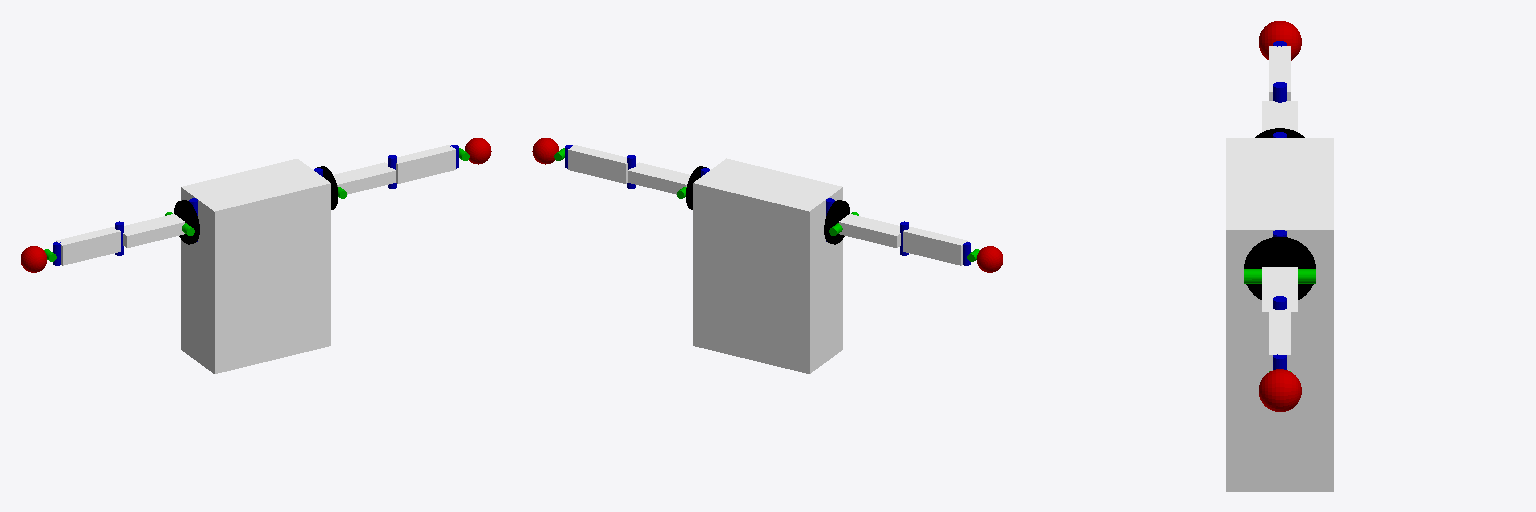
robot.urdf — Custom_Upper_Body:
<?xml version="1.0" encoding="utf-8"?>
<robot name="Custom_Upper_Body">


	  <material name="blue">
	    	<color rgba="0 0 0.8 1"/>
	  </material>
	  <material name="black">
	    	<color rgba="0 0 0 1"/>
	  </material>
	  <material name="white">
	    	<color rgba="1 1 1 1"/>
	  </material>
  	<material name="red">
    		<color rgba="0.8 0 0 1"/>
  	</material>
  	<material name="green">
    		<color rgba="0 0.8 0 1"/>
  	</material>
  	
  	
	<link name="base">
		<mass value="0.3"/>
		<inertial>
			<origin xyz="0 0 0" rpy="0 0 0"></origin>
			<mass value="0.3"></mass>
			<inertia ixx="0.000444379589701896" ixy="0" ixz="0" iyy="0.00048561348802354" iyz="0" izz="0.000421911604661064"></inertia>
		</inertial>
		<visual>
			<origin xyz="0 0 0" rpy="0 0 0"></origin>
			<geometry>
				<box size="0.3 0.15 0.4"/>
			</geometry>
			<material name="white"/>
		</visual>
		<collision>
			<origin xyz="0 0 0" rpy="0 0 0"></origin>
			<geometry>
				<box size="0.3 0.15 0.4"/>
			</geometry>
		</collision>
	</link>
	
	<joint name="base_to_r_shoulder_yaw" type="revolute">
	    <parent link="base"/>
	    <child link="r_shoulder_yaw"/>
	    <origin xyz="0.16 0. 0.15" rpy="0 0 0"/>
	    <axis xyz="0 0 1"></axis>
	    <limit effort="3.1" lower="-1.57" upper="1.57" velocity="7.0"></limit>
  	</joint>
	
	<link name="r_shoulder_yaw">
		<inertial>
			<origin xyz="0 0 0" rpy="0 0 0"></origin>
			<mass value="0.1"></mass>
			<inertia ixx="0.000444379589701896" ixy="0" ixz="0" iyy="0.00048561348802354" iyz="0" izz="0.000421911604661064"></inertia>
		</inertial>
		<visual>
			<origin xyz="0 0 0" rpy="0 0 0"></origin>
			<geometry>
				<cylinder length="0.1" radius="0.01"/>
			</geometry>
			<material name="blue"/>
		</visual>
		<collision>
			<origin xyz="0 0 0" rpy="0 0 0"></origin>
			<geometry>
				<cylinder length="0.1" radius="0.01"/>
			</geometry>
		</collision>
	</link>
	
	<joint name="r_shoulder_yaw_to_shoulder_roll" type="revolute">
	    <parent link="r_shoulder_yaw"/>
	    <child link="r_shoulder_roll"/>
	    <origin xyz="0.018 0 0" rpy="0 1.57 0"/>
	    <axis xyz="0 0 1"></axis>
	    <limit effort="3.1" lower="-1.57" upper="1.57" velocity="7.0"></limit>
  	</joint>
	
	<link name="r_shoulder_roll">
		<inertial>
			<origin xyz="0 0 0" rpy="0 0 0"></origin>
			<mass value="0.1"></mass>
			<inertia ixx="0.000444379589701896" ixy="0" ixz="0" iyy="0.00048561348802354" iyz="0" izz="0.000421911604661064"></inertia>
		</inertial>
		<visual>
			<origin xyz="0 0 0" rpy="0 0 0"></origin>
			<geometry>
				<cylinder length="0.01" radius="0.05"/>
			</geometry>
			<material name="black"/>
		</visual>
		<collision>
			<origin xyz="0 0 0" rpy="0 0 0"></origin>
			<geometry>
				<cylinder length="0.01" radius="0.05"/>
			</geometry>
		</collision>
	</link>
	
	<joint name="r_shoulder_roll_to_shoulder_pitch" type="revolute">
	    <parent link="r_shoulder_roll"/>
	    <child link="r_shoulder_pitch"/>
	    <origin xyz="0 0 0.018" rpy="1.57 0 0"/>
	    <axis xyz="0 0 1"></axis>
	    <limit effort="3.1" lower="-1.57" upper="1.57" velocity="7.0"></limit>
  	</joint>
	
	<link name="r_shoulder_pitch">
		<inertial>
			<origin xyz="0 0 0" rpy="0 0 0"></origin>
			<mass value="0.1"></mass>
			<inertia ixx="0.000444379589701896" ixy="0" ixz="0" iyy="0.00048561348802354" iyz="0" izz="0.000421911604661064"></inertia>
		</inertial>
		<visual>
			<origin xyz="0 0 0" rpy="0 0 0"></origin>
			<geometry>
				<cylinder length="0.1" radius="0.01"/>
			</geometry>
			<material name="green"/>
		</visual>
		<collision>
			<origin xyz="0 0 0" rpy="0 0 0"></origin>
			<geometry>
				<cylinder length="0.1" radius="0.01"/>
			</geometry>
		</collision>
	</link>
	
	<joint name="r_shoulder_pitch_to_upper_arm" type="fixed">
	    <parent link="r_shoulder_pitch"/>
	    <child link="r_upper_arm"/>
	    <origin xyz="0 0.075 0" rpy="0 0 0"/>
	    <axis xyz="0 0 1"></axis>
  	</joint>
	
	<link name="r_upper_arm">
		<inertial>
			<origin xyz="0 0 0" rpy="0 0 0"></origin>
			<mass value="0.1"></mass>
			<inertia ixx="0.000444379589701896" ixy="0" ixz="0" iyy="0.00048561348802354" iyz="0" izz="0.000421911604661064"></inertia>
		</inertial>
		<visual>
			<origin xyz="0 0 0" rpy="0 0 0"></origin>
			<geometry>
				<box size="0.03 0.15 0.05"/>
			</geometry>
			<material name="white"/>
		</visual>
		<collision>
			<origin xyz="0 0 0" rpy="0 0 0"></origin>
			<geometry>
				<box size="0.03 0.1 0.05"/>
			</geometry>
		</collision>
	</link>
	
	<joint name="r_upper_arm_to_elbow" type="revolute">
	    <parent link="r_upper_arm"/>
	    <child link="r_elbow"/>
	    <origin xyz="0 0.08 0" rpy="0 -1.57 0"/>
	    <axis xyz="0 0 1"></axis>
	    <limit effort="3.1" lower="-.57" upper="1.57" velocity="7.0"></limit>
  	</joint>
	
	<link name="r_elbow">
		<inertial>
			<origin xyz="0 0 0" rpy="0 0 0"></origin>
			<mass value="0.1"></mass>
			<inertia ixx="0.000444379589701896" ixy="0" ixz="0" iyy="0.00048561348802354" iyz="0" izz="0.000421911604661064"></inertia>
		</inertial>
		<visual>
			<origin xyz="0 0 0" rpy="0 0 0"></origin>
			<geometry>
				<cylinder length="0.075" radius="0.01"/>
			</geometry>
			<material name="blue"/>
		</visual>
		<collision>
			<origin xyz="0 0 0" rpy="0 0 0"></origin>
			<geometry>
				<cylinder length="0.075" radius="0.01"/>
			</geometry>
		</collision>
	</link>
	
	<joint name="r_elbow_to_forearm" type="fixed">
	    <parent link="r_elbow"/>
	    <child link="r_forearm"/>
	    <origin xyz="0 0.08 0" rpy="0 0 0"/>
	    <axis xyz="0 0 1"></axis>
  	</joint>
	
	<link name="r_forearm">
		<inertial>
			<origin xyz="0 0 0" rpy="0 0 0"></origin>
			<mass value="0.1"></mass>
			<inertia ixx="0.000444379589701896" ixy="0" ixz="0" iyy="0.00048561348802354" iyz="0" izz="0.000421911604661064"></inertia>
		</inertial>
		<visual>
			<origin xyz="0 0 0" rpy="0 0 0"></origin>
			<geometry>
				<box size="0.03 0.15 0.05"/>
			</geometry>
			<material name="white"/>
		</visual>
		<collision>
			<origin xyz="0 0 0" rpy="0 0 0"></origin>
			<geometry>
				<box size="0.03 0.15 0.05"/>
			</geometry>
		</collision>
	</link>
	
	<joint name="r_forearm_to_wrist_1" type="revolute">
	    <parent link="r_forearm"/>
	    <child link="r_wrist_1"/>
	    <origin xyz="0 0.08 0" rpy="0 0 0"/>
	    <axis xyz="0 0 1"></axis>
	    <limit effort="3.1" lower="-1.57" upper="1.57" velocity="7.0"></limit>
  	</joint>
	
	<link name="r_wrist_1">
		<inertial>
			<origin xyz="0 0 0" rpy="0 0 0"></origin>
			<mass value="0.1"></mass>
			<inertia ixx="0.000444379589701896" ixy="0" ixz="0" iyy="0.00048561348802354" iyz="0" izz="0.000421911604661064"></inertia>
		</inertial>
		<visual>
			<origin xyz="0 0 0" rpy="0 0 0"></origin>
			<geometry>
				<cylinder length="0.05" radius="0.01"/>
			</geometry>
			<material name="blue"/>
		</visual>
		<collision>
			<origin xyz="0 0 0" rpy="0 0 0"></origin>
			<geometry>
				<cylinder length="0.05" radius="0.01"/>
			</geometry>
		</collision>
	</link>
	
	<joint name="r_wrist_1_to_wrist_2" type="revolute">
	    <parent link="r_wrist_1"/>
	    <child link="r_wrist_2"/>
	    <origin xyz="0 0.02 0" rpy="0 -1.57 0"/>
	    <axis xyz="0 0 1"></axis>
	    <limit effort="3.1" lower="-1.57" upper="1.57" velocity="7.0"></limit>
  	</joint>
	
	<link name="r_wrist_2">
		<inertial>
			<origin xyz="0 0 0" rpy="0 0 0"></origin>
			<mass value="0.1"></mass>
			<inertia ixx="0.000444379589701896" ixy="0" ixz="0" iyy="0.00048561348802354" iyz="0" izz="0.000421911604661064"></inertia>
		</inertial>
		<visual>
			<origin xyz="0 0 0" rpy="0 0 0"></origin>
			<geometry>
				<cylinder length="0.03" radius="0.01"/>
			</geometry>
			<material name="green"/>
		</visual>
		<collision>
			<origin xyz="0 0 0" rpy="0 0 0"></origin>
			<geometry>
				<cylinder length="0.03" radius="0.01"/>
			</geometry>
		</collision>
	</link>
	
	<joint name="r_wrist_2_to_hand" type="fixed">
	    <parent link="r_wrist_2"/>
	    <child link="r_hand"/>
	    <origin xyz="0 0.04 0" rpy="0 0 0"/>
	    <axis xyz="0 0 1"></axis>
  	</joint>
	
	<link name="r_hand">
		<inertial>
			<origin xyz="0 0 0" rpy="0 0 0"></origin>
			<mass value="0.1"></mass>
			<inertia ixx="0.000444379589701896" ixy="0" ixz="0" iyy="0.00048561348802354" iyz="0" izz="0.000421911604661064"></inertia>
		</inertial>
		<visual>
			<origin xyz="0 0 0" rpy="0 0 0"></origin>
			<geometry>
				<sphere radius="0.03"/>
			</geometry>
			<material name="red"/>
		</visual>
		<collision>
			<origin xyz="0 0 0" rpy="0 0 0"></origin>
			<geometry>
				<sphere radius="0.03"/>
			</geometry>
		</collision>
	</link>
	
	<joint name="r_end_effector" type="fixed">
	    <parent link="r_hand"/>
	    <child link="r_ee_link"/>
	    <origin xyz="0 0 0" rpy="0 0 0"/>
	    <axis xyz="0 0 1"></axis>
  	</joint>
  	
  	<link name="r_ee_link">
        <inertial>
          <mass value="0.001" />
          <inertia ixx="0.0001" iyy="0.0001" izz="0.0001" ixy="0" ixz="0" iyz="0" />
        </inertial>
      </link>
      
      
      
      
      
      
      
      <joint name="base_to_l_shoulder_yaw" type="revolute">
	    <parent link="base"/>
	    <child link="l_shoulder_yaw"/>
	    <origin xyz="-0.16 0. 0.15" rpy="0 0 0"/>
	    <axis xyz="0 0 -1"></axis>
	    <limit effort="3.1" lower="-1.57" upper="1.57" velocity="7.0"></limit>
  	</joint>
	
	<link name="l_shoulder_yaw">
		<inertial>
			<origin xyz="0 0 0" rpy="0 0 0"></origin>
			<mass value="0.1"></mass>
			<inertia ixx="0.000444379589701896" ixy="0" ixz="0" iyy="0.00048561348802354" iyz="0" izz="0.000421911604661064"></inertia>
		</inertial>
		<visual>
			<origin xyz="0 0 0" rpy="0 0 0"></origin>
			<geometry>
				<cylinder length="0.1" radius="0.01"/>
			</geometry>
			<material name="blue"/>
		</visual>
		<collision>
			<origin xyz="0 0 0" rpy="0 0 0"></origin>
			<geometry>
				<cylinder length="0.1" radius="0.01"/>
			</geometry>
		</collision>
	</link>
	
	<joint name="l_shoulder_yaw_to_shoulder_roll" type="revolute">
	    <parent link="l_shoulder_yaw"/>
	    <child link="l_shoulder_roll"/>
	    <origin xyz="-0.018 0 0" rpy="0 -1.57 0"/>
	    <axis xyz="0 0 -1"></axis>
	    <limit effort="3.1" lower="-1.57" upper="1.57" velocity="7.0"></limit>
  	</joint>
	
	<link name="l_shoulder_roll">
		<inertial>
			<origin xyz="0 0 0" rpy="0 0 0"></origin>
			<mass value="0.1"></mass>
			<inertia ixx="0.000444379589701896" ixy="0" ixz="0" iyy="0.00048561348802354" iyz="0" izz="0.000421911604661064"></inertia>
		</inertial>
		<visual>
			<origin xyz="0 0 0" rpy="0 0 0"></origin>
			<geometry>
				<cylinder length="0.01" radius="0.05"/>
			</geometry>
			<material name="black"/>
		</visual>
		<collision>
			<origin xyz="0 0 0" rpy="0 0 0"></origin>
			<geometry>
				<cylinder length="0.01" radius="0.05"/>
			</geometry>
		</collision>
	</link>
	
	<joint name="l_shoulder_roll_to_shoulder_pitch" type="revolute">
	    <parent link="l_shoulder_roll"/>
	    <child link="l_shoulder_pitch"/>
	    <origin xyz="0 0 0.018" rpy="1.57 0 0"/>
	    <axis xyz="0 0 -1"></axis>
	    <limit effort="3.1" lower="-1.57" upper="1.57" velocity="7.0"></limit>
  	</joint>
	
	<link name="l_shoulder_pitch">
		<inertial>
			<origin xyz="0 0 0" rpy="0 0 0"></origin>
			<mass value="0.1"></mass>
			<inertia ixx="0.000444379589701896" ixy="0" ixz="0" iyy="0.00048561348802354" iyz="0" izz="0.000421911604661064"></inertia>
		</inertial>
		<visual>
			<origin xyz="0 0 0" rpy="0 0 0"></origin>
			<geometry>
				<cylinder length="0.1" radius="0.01"/>
			</geometry>
			<material name="green"/>
		</visual>
		<collision>
			<origin xyz="0 0 0" rpy="0 0 0"></origin>
			<geometry>
				<cylinder length="0.1" radius="0.01"/>
			</geometry>
		</collision>
	</link>
	
	<joint name="l_shoulder_pitch_to_upper_arm" type="fixed">
	    <parent link="l_shoulder_pitch"/>
	    <child link="l_upper_arm"/>
	    <origin xyz="0 0.075 0" rpy="0 0 0"/>
	    <axis xyz="0 0 1"></axis>
  	</joint>
	
	<link name="l_upper_arm">
		<inertial>
			<origin xyz="0 0 0" rpy="0 0 0"></origin>
			<mass value="0.1"></mass>
			<inertia ixx="0.000444379589701896" ixy="0" ixz="0" iyy="0.00048561348802354" iyz="0" izz="0.000421911604661064"></inertia>
		</inertial>
		<visual>
			<origin xyz="0 0 0" rpy="0 0 0"></origin>
			<geometry>
				<box size="0.03 0.15 0.05"/>
			</geometry>
			<material name="white"/>
		</visual>
		<collision>
			<origin xyz="0 0 0" rpy="0 0 0"></origin>
			<geometry>
				<box size="0.03 0.1 0.05"/>
			</geometry>
		</collision>
	</link>
	
	<joint name="l_upper_arm_to_elbow" type="revolute">
	    <parent link="l_upper_arm"/>
	    <child link="l_elbow"/>
	    <origin xyz="0 0.08 0" rpy="0 1.57 0"/>
	    <axis xyz="0 0 -1"></axis>
	    <limit effort="3.1" lower="-1.57" upper="1.57" velocity="7.0"></limit>
  	</joint>
	
	<link name="l_elbow">
		<inertial>
			<origin xyz="0 0 0" rpy="0 0 0"></origin>
			<mass value="0.1"></mass>
			<inertia ixx="0.000444379589701896" ixy="0" ixz="0" iyy="0.00048561348802354" iyz="0" izz="0.000421911604661064"></inertia>
		</inertial>
		<visual>
			<origin xyz="0 0 0" rpy="0 0 0"></origin>
			<geometry>
				<cylinder length="0.075" radius="0.01"/>
			</geometry>
			<material name="blue"/>
		</visual>
		<collision>
			<origin xyz="0 0 0" rpy="0 0 0"></origin>
			<geometry>
				<cylinder length="0.075" radius="0.01"/>
			</geometry>
		</collision>
	</link>
	
	<joint name="l_elbow_to_forearm" type="fixed">
	    <parent link="l_elbow"/>
	    <child link="l_forearm"/>
	    <origin xyz="0 0.08 0" rpy="0 0 0"/>
	    <axis xyz="0 0 1"></axis>
  	</joint>
	
	<link name="l_forearm">
		<inertial>
			<origin xyz="0 0 0" rpy="0 0 0"></origin>
			<mass value="0.1"></mass>
			<inertia ixx="0.000444379589701896" ixy="0" ixz="0" iyy="0.00048561348802354" iyz="0" izz="0.000421911604661064"></inertia>
		</inertial>
		<visual>
			<origin xyz="0 0 0" rpy="0 0 0"></origin>
			<geometry>
				<box size="0.03 0.15 0.05"/>
			</geometry>
			<material name="white"/>
		</visual>
		<collision>
			<origin xyz="0 0 0" rpy="0 0 0"></origin>
			<geometry>
				<box size="0.03 0.1 0.05"/>
			</geometry>
		</collision>
	</link>
	
	<joint name="l_forearm_to_wrist_1" type="revolute">
	    <parent link="l_forearm"/>
	    <child link="l_wrist_1"/>
	    <origin xyz="0 0.08 0" rpy="0 0 0"/>
	    <axis xyz="0 0 -1"></axis>
	    <limit effort="3.1" lower="-1.57" upper="1.57" velocity="7.0"></limit>
  	</joint>
	
	<link name="l_wrist_1">
		<inertial>
			<origin xyz="0 0 0" rpy="0 0 0"></origin>
			<mass value="0.1"></mass>
			<inertia ixx="0.000444379589701896" ixy="0" ixz="0" iyy="0.00048561348802354" iyz="0" izz="0.000421911604661064"></inertia>
		</inertial>
		<visual>
			<origin xyz="0 0 0" rpy="0 0 0"></origin>
			<geometry>
				<cylinder length="0.05" radius="0.01"/>
			</geometry>
			<material name="blue"/>
		</visual>
		<collision>
			<origin xyz="0 0 0" rpy="0 0 0"></origin>
			<geometry>
				<cylinder length="0.05" radius="0.01"/>
			</geometry>
		</collision>
	</link>
	
	<joint name="l_wrist_1_to_wrist_2" type="revolute">
	    <parent link="l_wrist_1"/>
	    <child link="l_wrist_2"/>
	    <origin xyz="0 0.02 0" rpy="0 -1.57 0"/>
	    <axis xyz="0 0 1"></axis>
	    <limit effort="3.1" lower="-1.57" upper="1.57" velocity="7.0"></limit>
  	</joint>
	
	<link name="l_wrist_2">
		<inertial>
			<origin xyz="0 0 0" rpy="0 0 0"></origin>
			<mass value="0.1"></mass>
			<inertia ixx="0.000444379589701896" ixy="0" ixz="0" iyy="0.00048561348802354" iyz="0" izz="0.000421911604661064"></inertia>
		</inertial>
		<visual>
			<origin xyz="0 0 0" rpy="0 0 0"></origin>
			<geometry>
				<cylinder length="0.03" radius="0.01"/>
			</geometry>
			<material name="green"/>
		</visual>
		<collision>
			<origin xyz="0 0 0" rpy="0 0 0"></origin>
			<geometry>
				<cylinder length="0.03" radius="0.01"/>
			</geometry>
		</collision>
	</link>
	
	<joint name="l_wrist_2_to_hand" type="fixed">
	    <parent link="l_wrist_2"/>
	    <child link="l_hand"/>
	    <origin xyz="0 0.04 0" rpy="0 0 0"/>
	    <axis xyz="0 0 1"></axis>
  	</joint>
	
	<link name="l_hand">
		<inertial>
			<origin xyz="0 0 0" rpy="0 0 0"></origin>
			<mass value="0.1"></mass>
			<inertia ixx="0.000444379589701896" ixy="0" ixz="0" iyy="0.00048561348802354" iyz="0" izz="0.000421911604661064"></inertia>
		</inertial>
		<visual>
			<origin xyz="0 0 0" rpy="0 0 0"></origin>
			<geometry>
				<sphere radius="0.03"/>
			</geometry>
			<material name="red"/>
		</visual>
		<collision>
			<origin xyz="0 0 0" rpy="0 0 0"></origin>
			<geometry>
				<sphere radius="0.03"/>
			</geometry>
		</collision>
	</link>
	
	<joint name="l_end_effector" type="fixed">
	    <parent link="l_hand"/>
	    <child link="l_ee_link"/>
	    <origin xyz="0 0 0" rpy="0 0 0"/>
	    <axis xyz="0 0 1"></axis>
  	</joint>
  	
  	<link name="l_ee_link">
        <inertial>
          <mass value="0.001" />
          <inertia ixx="0.0001" iyy="0.0001" izz="0.0001" ixy="0" ixz="0" iyz="0" />
        </inertial>
      </link>
	
	
	
	
	
	
</robot>

--- Facts derived from the render (not from the file) ---
Views: 3 orthographic renders of the robot side by side, from view 1: azimuth 30°, elevation 25°; view 2: azimuth 150°, elevation 25°; view 3: azimuth 270°, elevation 25°.
Model Custom_Upper_Body with 21 links and 20 joints (12 revolute, 8 fixed), rooted at base, posed all joints at 0.
Links seen in each view (by area): view 1: base, l_forearm, r_forearm, l_upper_arm, r_upper_arm, l_shoulder_roll, l_hand, r_hand; view 2: base, l_forearm, r_forearm, l_upper_arm, r_upper_arm, l_shoulder_roll, l_hand, r_hand; view 3: base, r_shoulder_roll, r_upper_arm, r_hand, r_forearm, l_hand, l_upper_arm, l_forearm, r_shoulder_pitch.
Boxes of the visible links, left/top/right/bottom form: base: left=181, top=159, right=330, bottom=373; l_forearm: left=56, top=227, right=120, bottom=265; r_forearm: left=396, top=145, right=455, bottom=183; l_upper_arm: left=123, top=214, right=184, bottom=247; r_upper_arm: left=333, top=162, right=395, bottom=194; l_shoulder_roll: left=174, top=200, right=199, bottom=244; l_hand: left=21, top=246, right=46, bottom=272; r_hand: left=465, top=138, right=491, bottom=164; base: left=693, top=158, right=842, bottom=373; l_forearm: left=903, top=227, right=967, bottom=265; r_forearm: left=568, top=145, right=627, bottom=183; l_upper_arm: left=839, top=214, right=900, bottom=247; r_upper_arm: left=628, top=162, right=690, bottom=194; l_shoulder_roll: left=824, top=200, right=849, bottom=244; l_hand: left=977, top=246, right=1002, bottom=272; r_hand: left=532, top=138, right=558, bottom=164; base: left=1226, top=138, right=1333, bottom=491; r_shoulder_roll: left=1244, top=237, right=1315, bottom=299; r_upper_arm: left=1262, top=267, right=1297, bottom=331; r_hand: left=1259, top=369, right=1301, bottom=411; r_forearm: left=1269, top=309, right=1290, bottom=370; l_hand: left=1259, top=21, right=1301, bottom=60; l_upper_arm: left=1262, top=101, right=1297, bottom=131; l_forearm: left=1269, top=46, right=1290, bottom=100; r_shoulder_pitch: left=1244, top=269, right=1315, bottom=283.
Size in the robot's own frame: 1.2 by 0.15 by 0.4 metres.
Geometry: primitives only (box / cylinder / sphere), no mesh files.